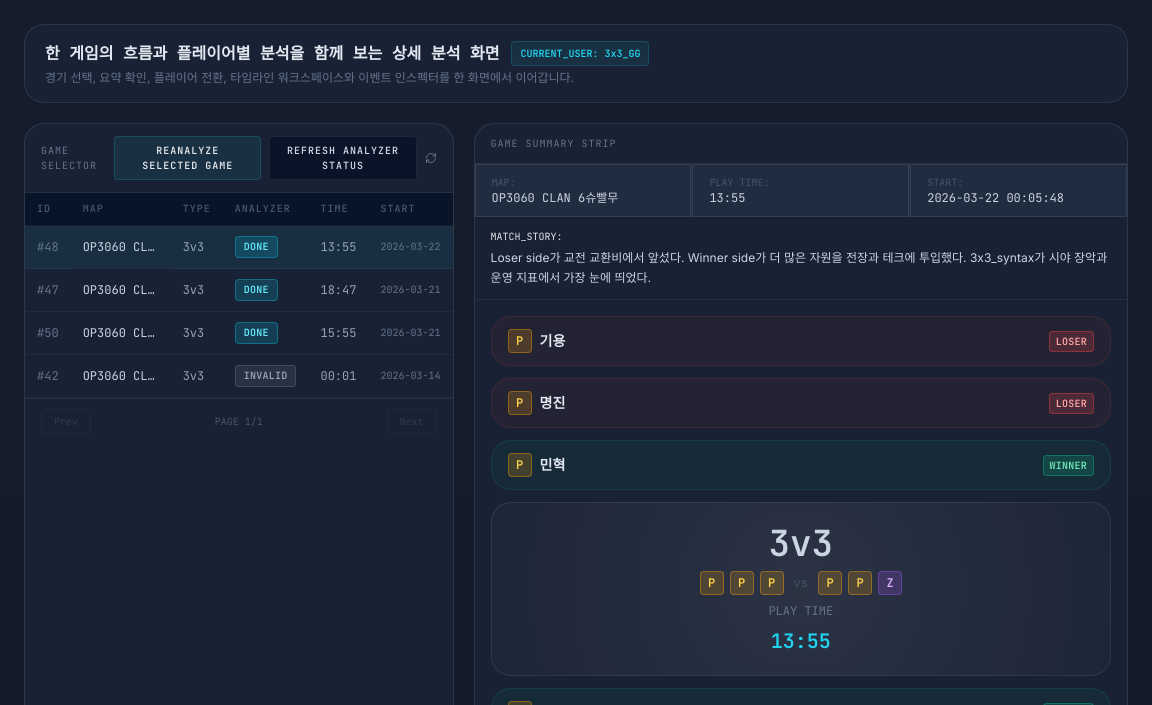
Test: analyzer page › shows an error when the reanalyze request fails
The width and height of the screenshot is (1152, 705).
Click the button "REANALYZE SELECTED GAME" at (188,158), box [114,136,261,180]
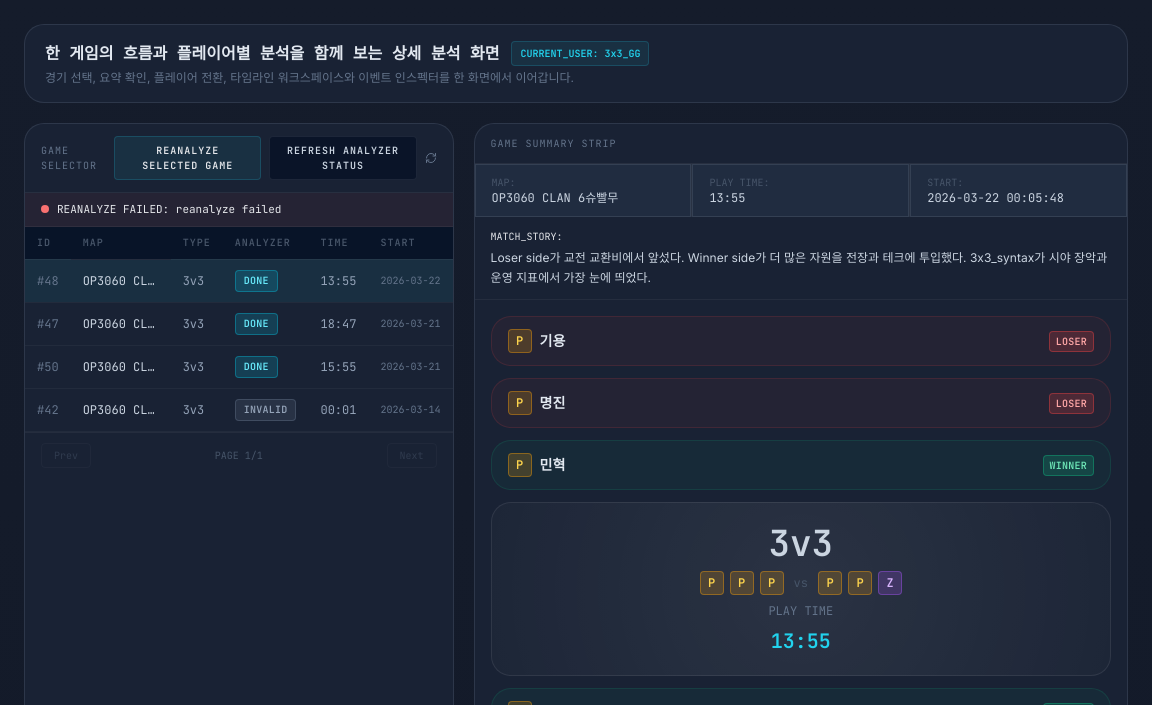
Now the text "REANALYZE FAILED: reanalyze failed" is shown, box [57,201,281,218]
